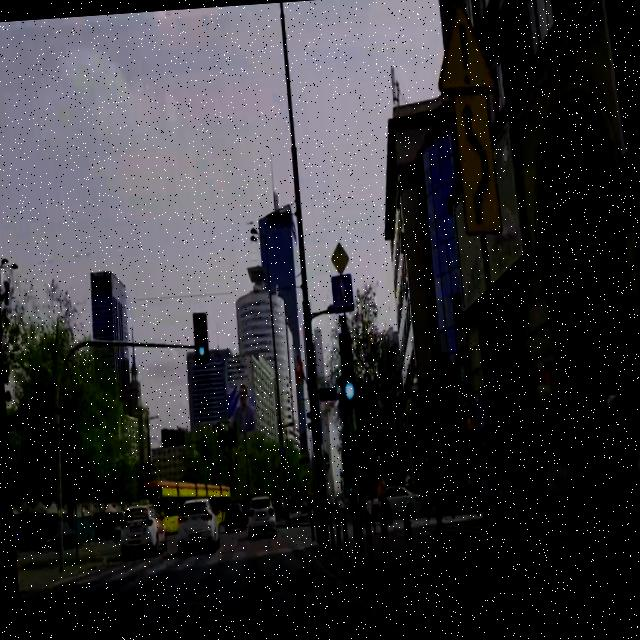Droga z pierwszenstwem: (328, 238, 349, 274)
